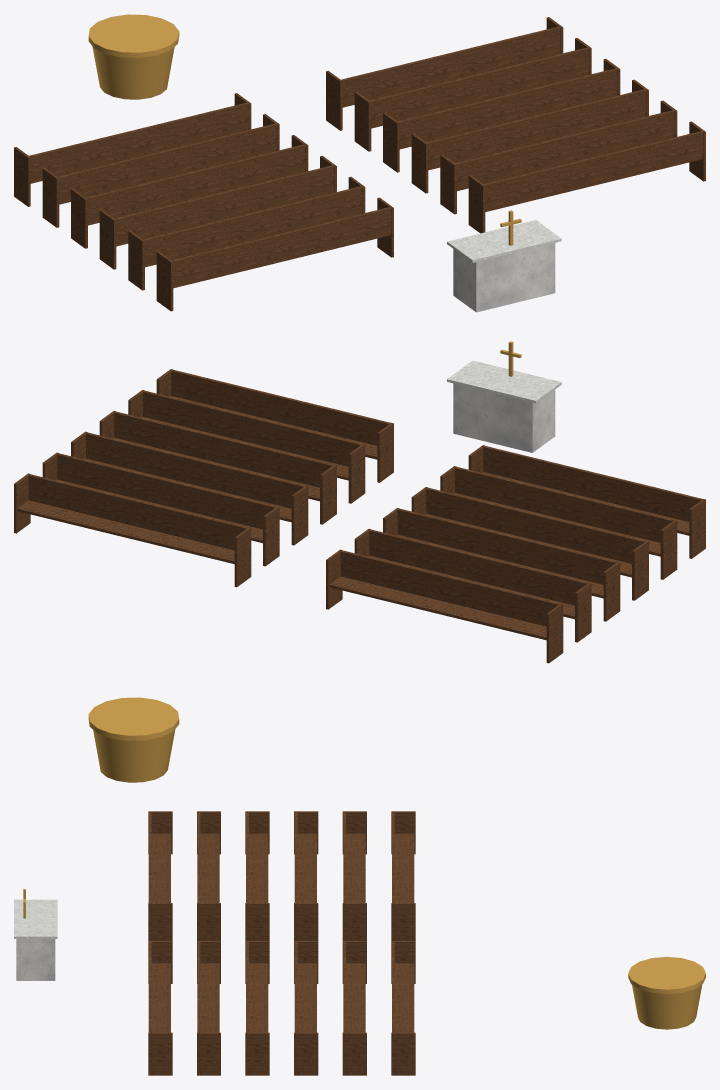
File: i_taoist_temple.gltf
3 renders of one model, top to bottom at view 1: azimuth 30°, elevation 25°; view 2: azimuth 150°, elevation 25°; view 3: azimuth 270°, elevation 25°, orthographic. The views are drawn at different scales.
Visible parts, largest first — view 1: I_taoist_temple; view 2: I_taoist_temple; view 3: I_taoist_temple.
Part boxes in pixels (x1,y1,x2,y2): I_taoist_temple: (14,14,705,312); I_taoist_temple: (14,341,705,782); I_taoist_temple: (14,811,705,1075).
Size of the model in its own units: 10.82 by 2.9 by 14.23.
Materials: 4 (3 with a texture image).
